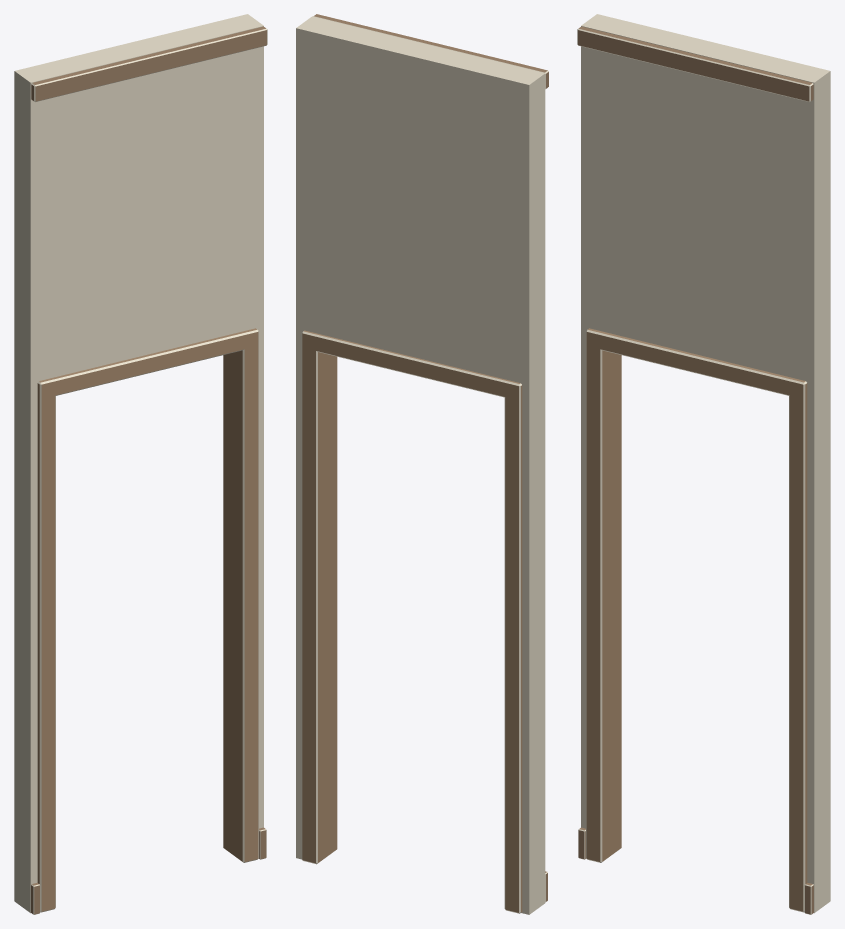
File: muro_puerta_340.glb
3 views of the same model, side by side, from view 1: azimuth 30°, elevation 25°; view 2: azimuth 150°, elevation 25°; view 3: azimuth 330°, elevation 25° (orthographic).
Visible parts, largest first — view 1: muro_puerta_340; view 2: muro_puerta_340; view 3: muro_puerta_340.
Part boxes in pixels (x1,y1,x2,y2): muro_puerta_340: (14, 14, 267, 914); muro_puerta_340: (296, 14, 548, 914); muro_puerta_340: (577, 14, 830, 914).
Size of the model in its own units: 1 by 3.4 by 0.165.
